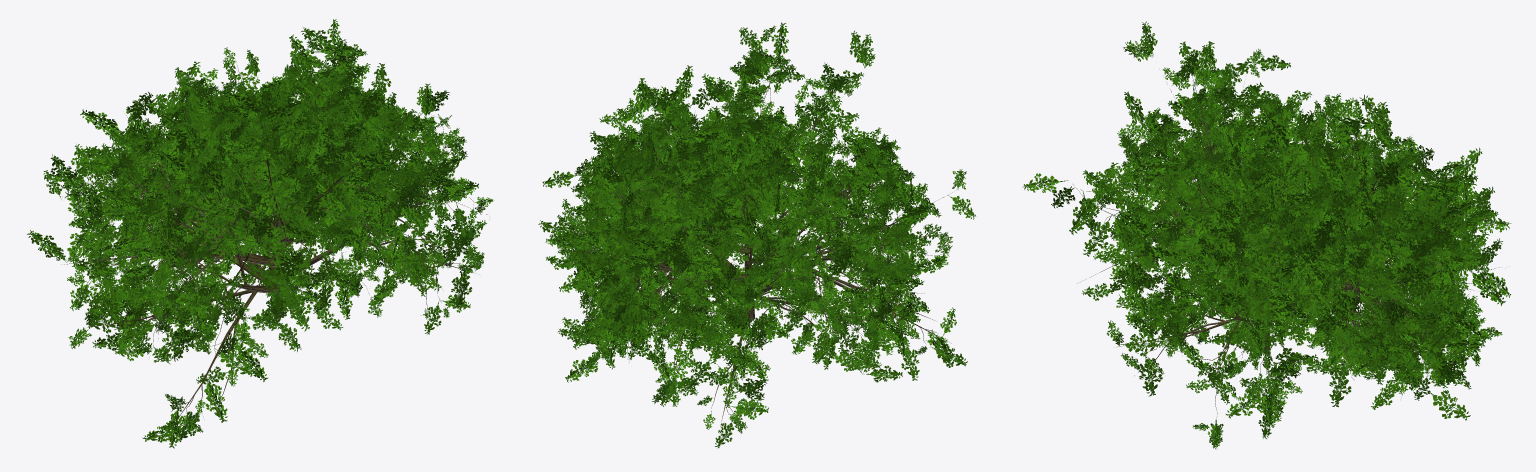
Rendered from prop_bush.glb.
3 views of the same model, side by side, from view 1: azimuth 30°, elevation 25°; view 2: azimuth 150°, elevation 25°; view 3: azimuth 270°, elevation 25° (orthographic). The views are drawn at different scales.
Visible parts, largest first — view 1: Tree; view 2: Tree; view 3: Tree.
Boxes of the visible parts, bbox=[...] form: Tree: bbox=[27, 19, 493, 448]; Tree: bbox=[538, 22, 975, 447]; Tree: bbox=[1022, 21, 1511, 449].
Size of the model in its own units: 42.99 by 35.98 by 42.6.
2 materials, 2 textured.
